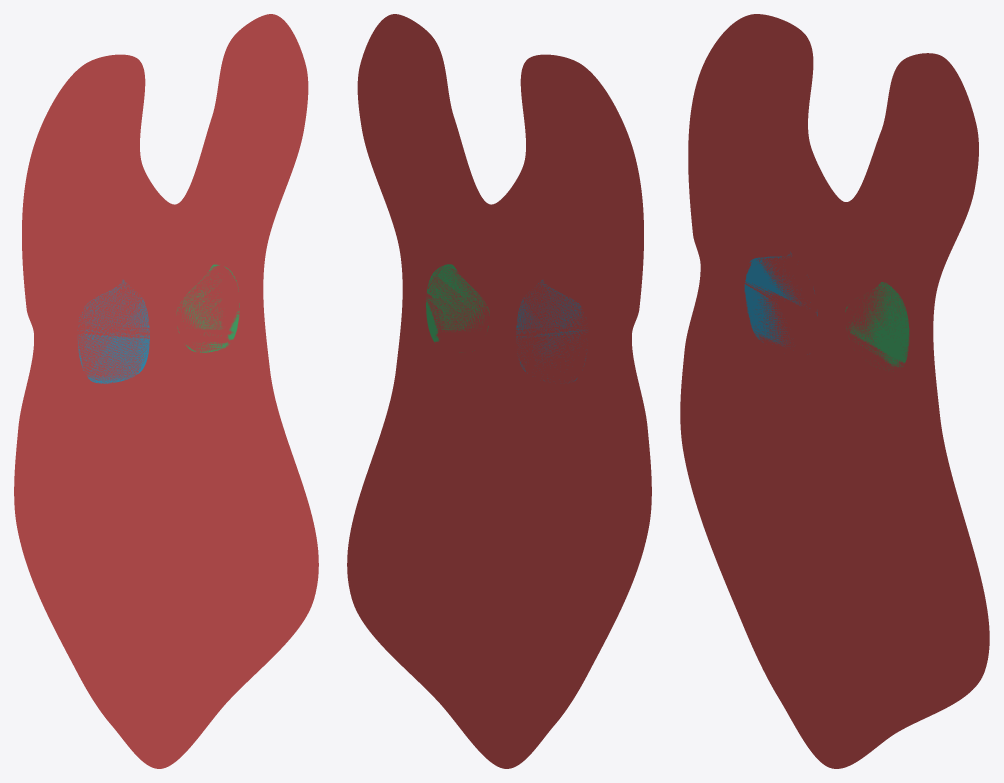
The picture shows the model from 3 angles, left to right: view 1: azimuth 30°, elevation 25°; view 2: azimuth 150°, elevation 25°; view 3: azimuth 330°, elevation 25°; orthographic projection.
Visible parts, largest first — view 1: Curva_1, Curva_2, Curva_3; view 2: Curva_1, Curva_3, Curva_2; view 3: Curva_1, Curva_3, Curva_2.
Part boxes in pixels (x1,y1,x2,y2): Curva_1: (14,14,318,768); Curva_2: (78,280,149,383); Curva_3: (176,264,239,352); Curva_1: (347,14,651,768); Curva_3: (426,264,489,352); Curva_2: (516,280,587,382); Curva_1: (680,14,989,768); Curva_3: (845,282,909,371); Curva_2: (744,252,817,354).
Size of the model in its own units: 0.5317 by 1.21 by 0.
